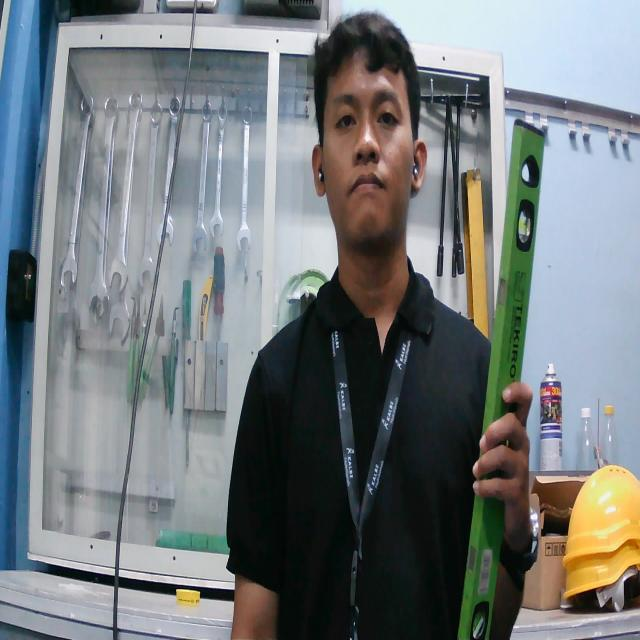water_pass: (456, 103, 548, 640)
